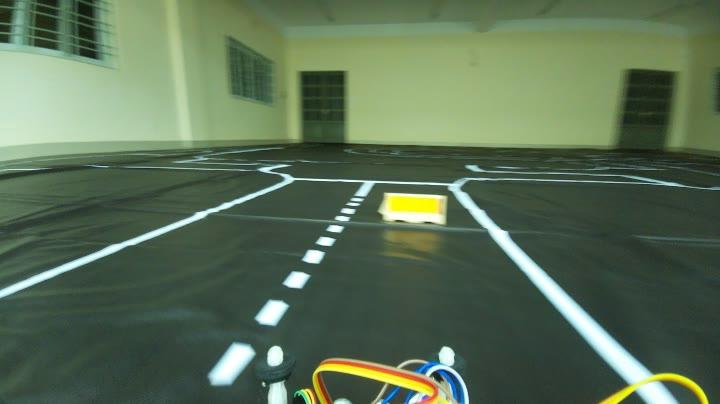roadblock: (375, 186, 462, 236)
